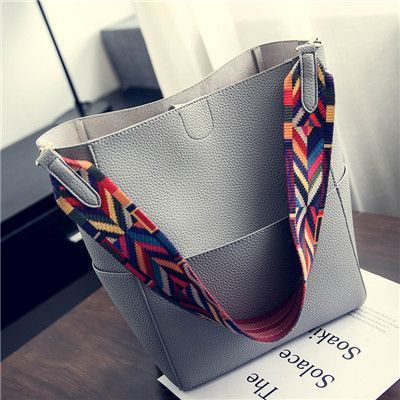cuero: (35, 40, 368, 393)
